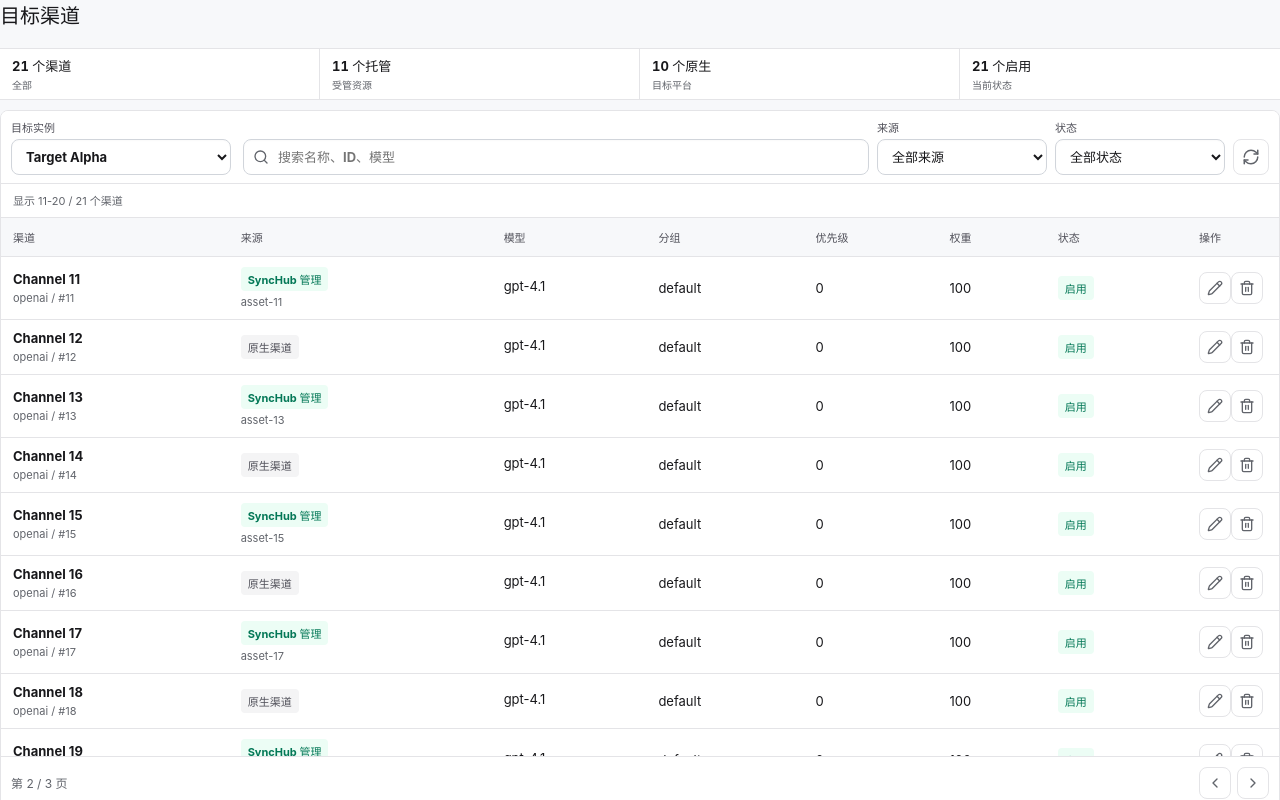
Test: ChannelsPage pagination › shows one page of channels and advances the URL-backed page
Check: the text "Channel 11" is shown, box x1=13 y1=270 x2=80 y2=286
Check: the text "显示 11-20 / 21 个渠道" is shown, box x1=1 y1=184 x2=1279 y2=218
Click the button named "下一页" at (1253, 782), box x1=1237 y1=766 x2=1269 y2=798
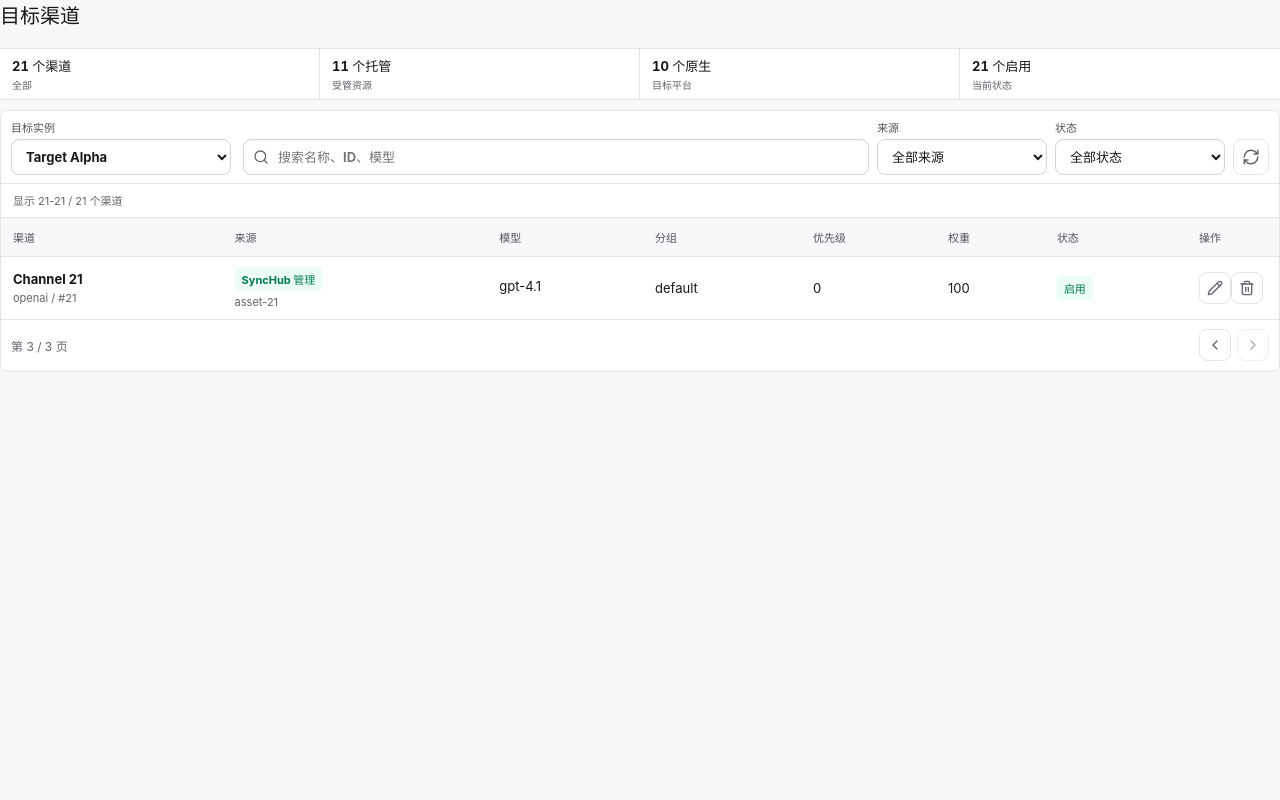
Check: the number of rows is 2, box x1=1 y1=218 x2=1279 y2=256; x1=1 y1=256 x2=1279 y2=318
Check: the text "Channel 21" is shown, box x1=13 y1=270 x2=83 y2=286
